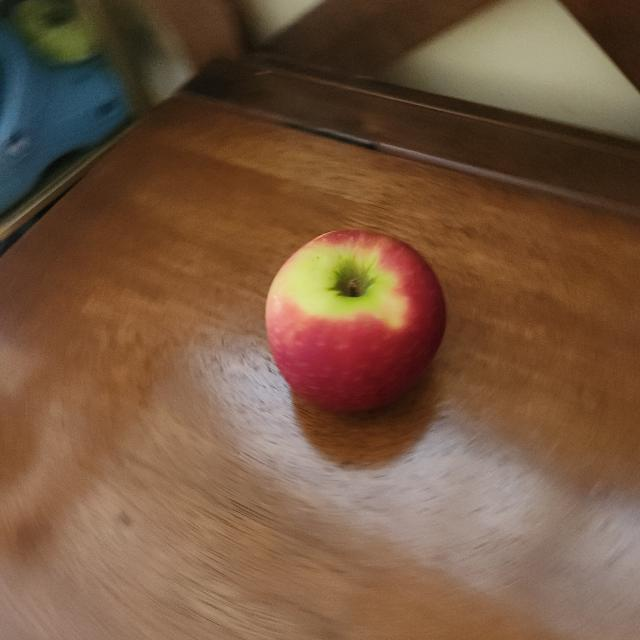apple: (256, 220, 456, 434)
